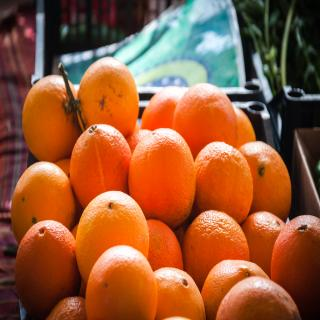Orange: (130, 127, 197, 227), (78, 193, 153, 275), (14, 220, 76, 308), (193, 138, 252, 224), (87, 248, 157, 320), (22, 72, 77, 162), (71, 124, 130, 206), (268, 213, 319, 307), (13, 161, 69, 243), (81, 54, 137, 136), (174, 85, 238, 152), (202, 261, 268, 318), (215, 276, 299, 320), (242, 139, 290, 215), (154, 268, 208, 320), (243, 210, 282, 262), (145, 88, 184, 130), (229, 102, 254, 149), (48, 294, 86, 320), (128, 128, 139, 155)
